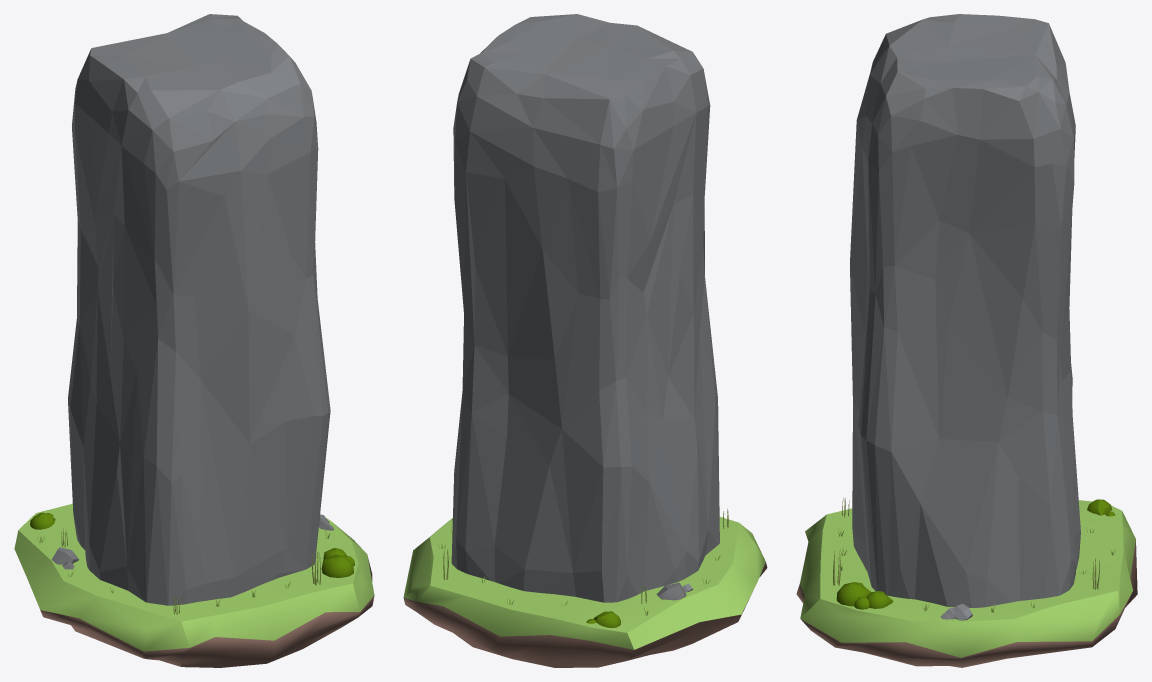
Rendered from vertical_island_spring_2.fbx.
3 views of the same model, side by side, from view 1: azimuth 30°, elevation 25°; view 2: azimuth 150°, elevation 25°; view 3: azimuth 270°, elevation 25° (orthographic). The views are drawn at different scales.
Parts seen in each view (by area): view 1: Island_Vertical_Spring_2.001; view 2: Island_Vertical_Spring_2.001; view 3: Island_Vertical_Spring_2.001.
Boxes of the visible parts, bbox=[...] form: Island_Vertical_Spring_2.001: bbox=[14, 14, 374, 667]; Island_Vertical_Spring_2.001: bbox=[403, 14, 767, 667]; Island_Vertical_Spring_2.001: bbox=[796, 14, 1137, 667].
Bounding box in the file's own units: 18.37 × 32.46 × 17.15.
